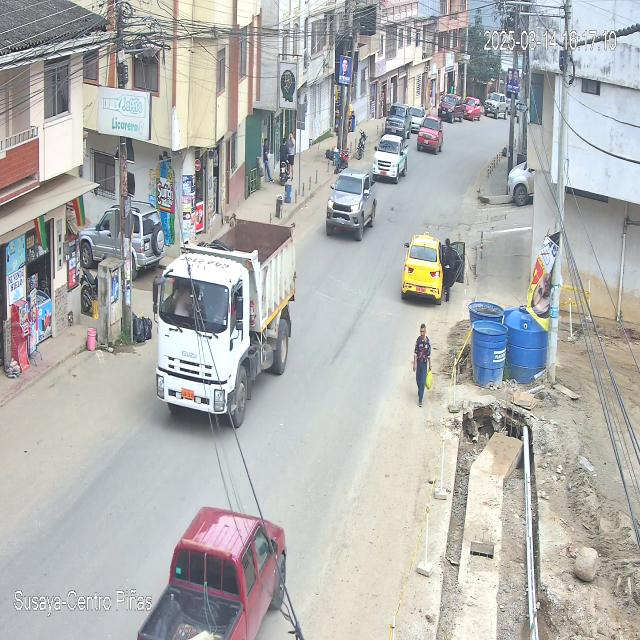CMT: (136, 507, 286, 640), (326, 169, 378, 241), (372, 133, 408, 184), (437, 94, 467, 123)
TRUCK: (154, 221, 298, 429)
